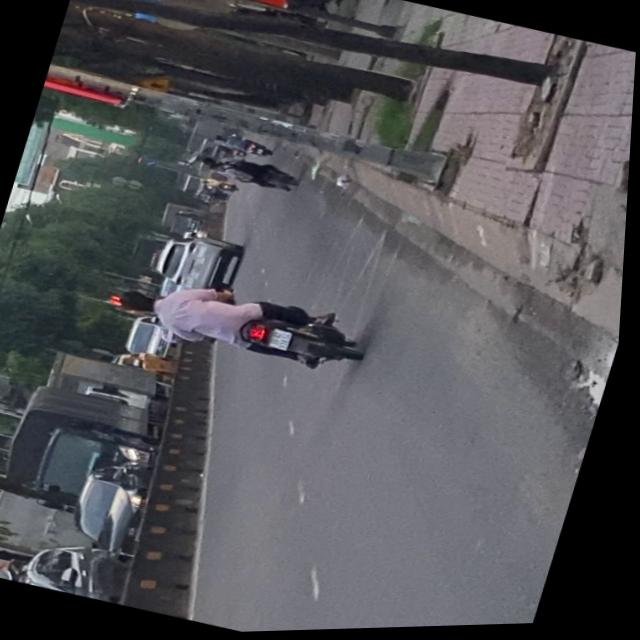licenseplate: (105, 257, 378, 389)
motorcyclist: (112, 285, 165, 322)
nohelmet: (270, 329, 295, 352)
